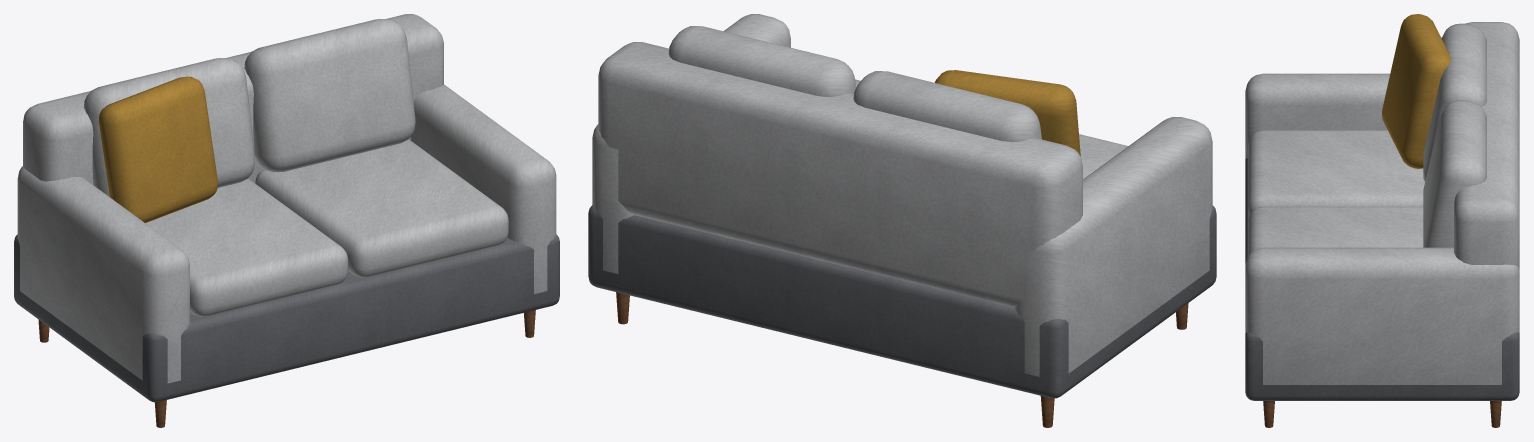
Rendered from loveseat.glb.
3 views of the same model, side by side, from view 1: azimuth 30°, elevation 25°; view 2: azimuth 150°, elevation 25°; view 3: azimuth 270°, elevation 25° (orthographic). The views are drawn at different scales.
Parts seen in each view (by area): view 1: Modern_Loveseat; view 2: Modern_Loveseat; view 3: Modern_Loveseat.
Boxes of the visible parts, x1,y1,x2,y2 form: Modern_Loveseat: (14,14,559,427); Modern_Loveseat: (588,14,1216,427); Modern_Loveseat: (1245,14,1519,427).
Bounding box in the file's own units: 1.55 × 0.9265 × 0.92.
Materials: 4 (4 with a texture image).
